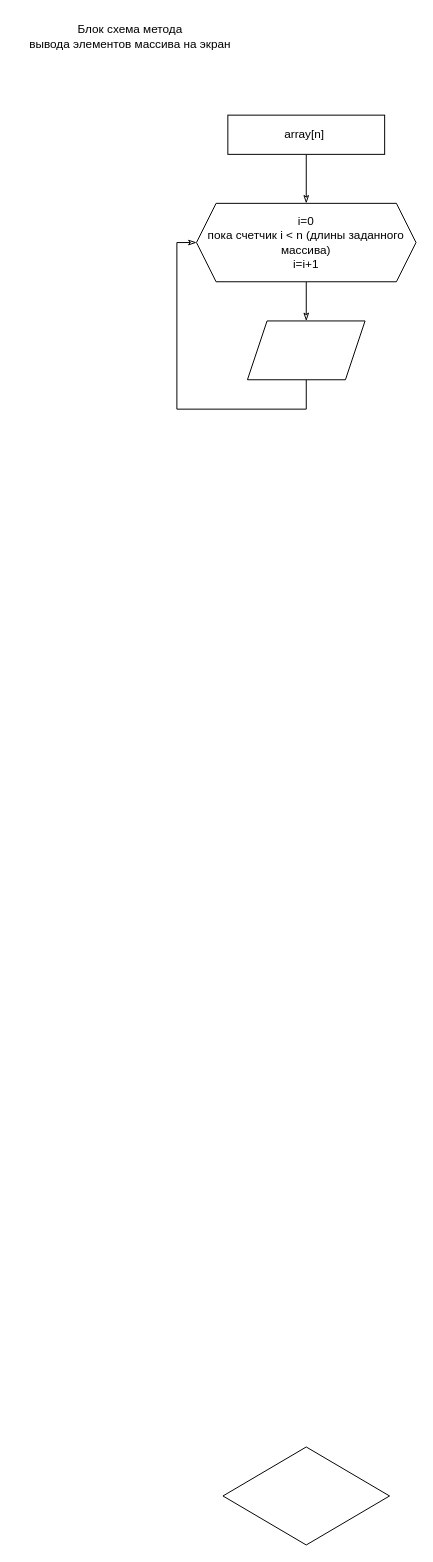
Some shapes in this 433 by 1562 pixel diagram are drawn without their labels. The box of each missing label's shape, as (x1, y1, x2, y2) in pixels:
array[i] Вывод элемента массива на экран: (246, 320, 365, 380)
если элемент на четной позиции: (222, 1446, 390, 1545)
